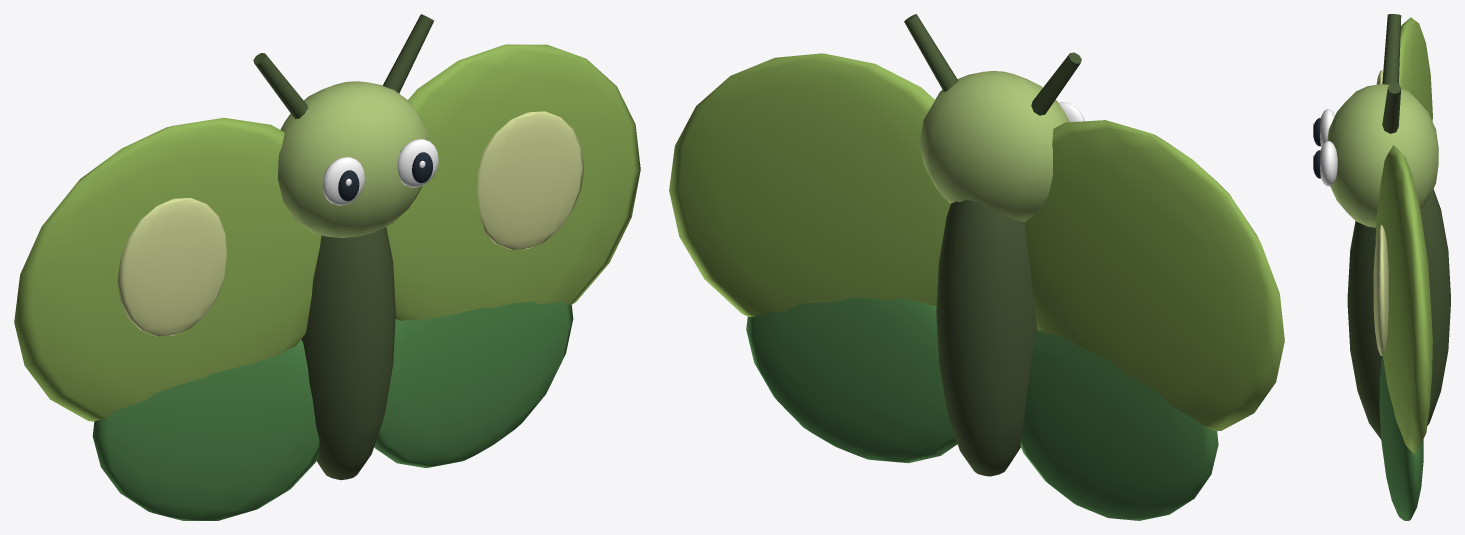
The picture shows the model from 3 angles, left to right: view 1: azimuth 30°, elevation 25°; view 2: azimuth 150°, elevation 25°; view 3: azimuth 270°, elevation 25°; orthographic projection. The views are drawn at different scales.
Visible parts, largest first — view 1: creature_15; view 2: creature_15; view 3: creature_15.
Boxes of the visible parts, x1,y1,x2,y2 form: creature_15: [14, 14, 640, 520]; creature_15: [669, 14, 1284, 520]; creature_15: [1313, 14, 1450, 520].
Size of the model in its own units: 1.34 by 0.9414 by 0.2864.
